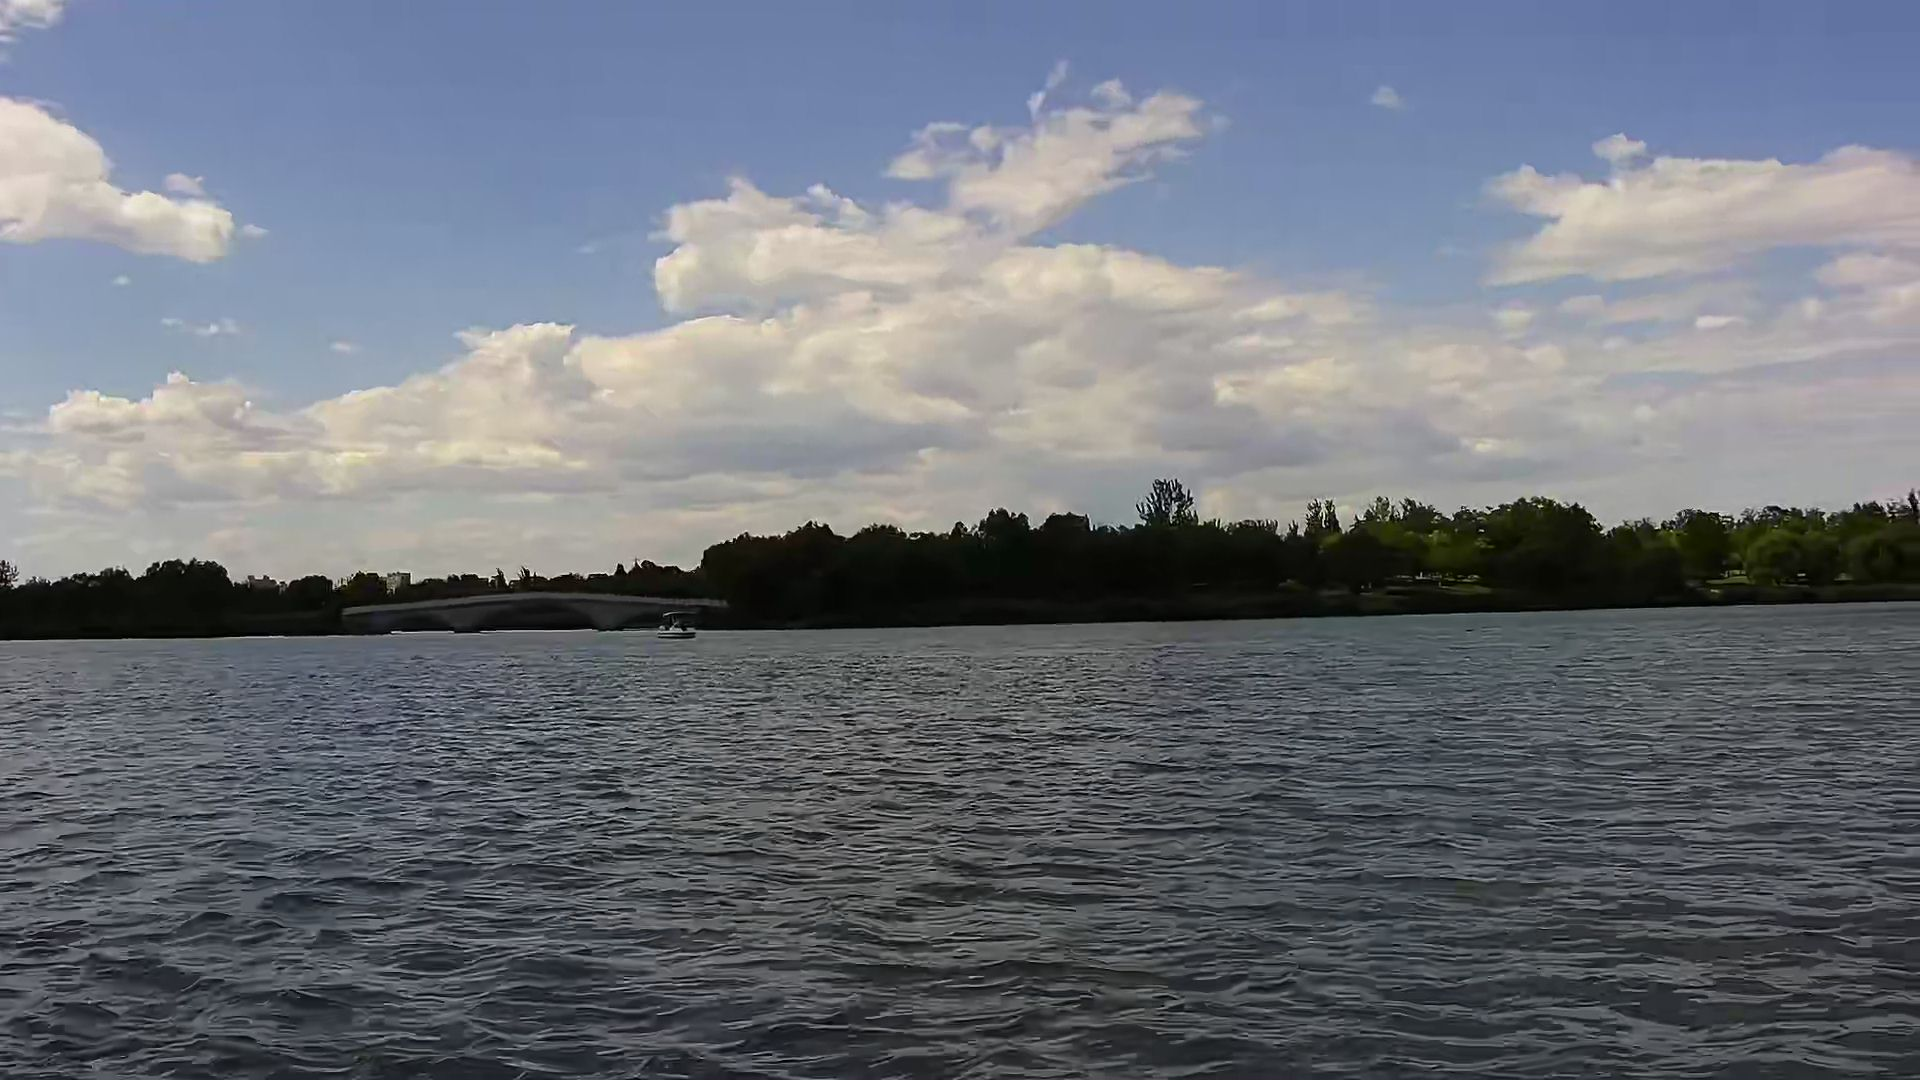boat: (650, 607, 698, 641)
bridge: (339, 593, 727, 632)
